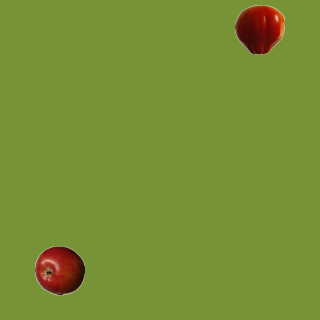Apple Braeburn: (34, 245, 84, 295)
Tomato 1: (234, 4, 284, 54)
